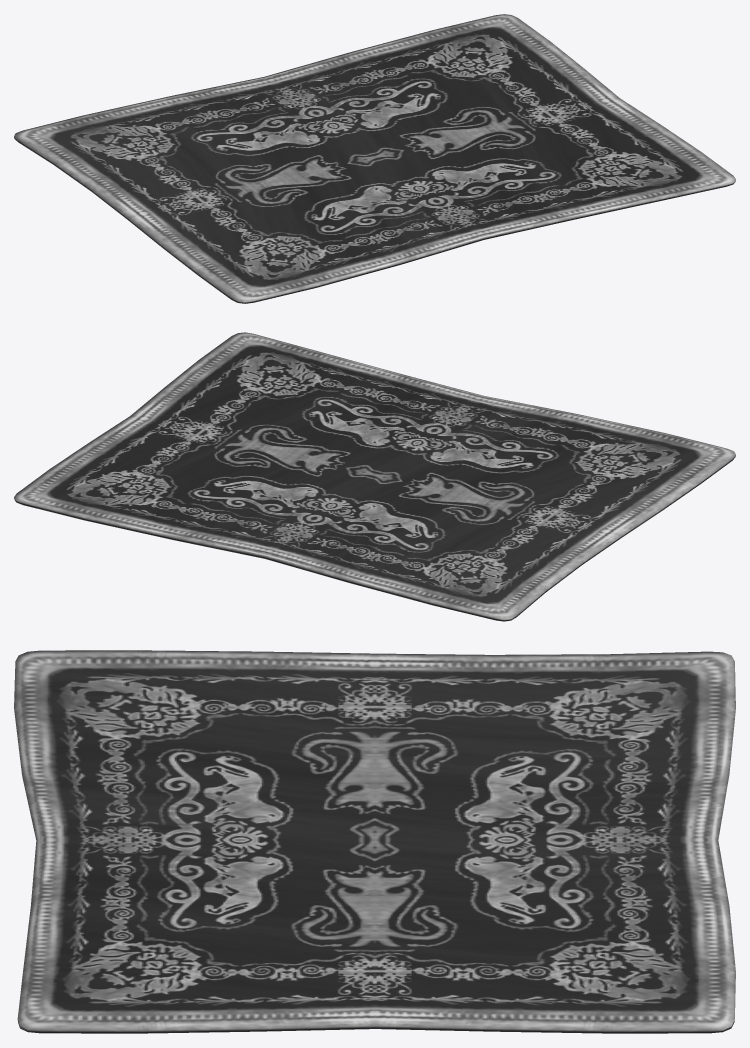
The model's file is KingCarpet_HD.fbx.
The picture shows the model from 3 angles, top to bottom: view 1: azimuth 30°, elevation 25°; view 2: azimuth 150°, elevation 25°; view 3: azimuth 270°, elevation 25°; orthographic projection. The views are drawn at different scales.
Visible parts, largest first — view 1: KingCarpet; view 2: KingCarpet; view 3: KingCarpet.
Boxes of the visible parts, x1=… form: KingCarpet: x1=14, y1=14, x2=735, y2=303; KingCarpet: x1=14, y1=332, x2=735, y2=621; KingCarpet: x1=14, y1=650, x2=735, y2=1033.
Bounding box in the file's own units: 2.31 × 0.0136 × 1.86.
